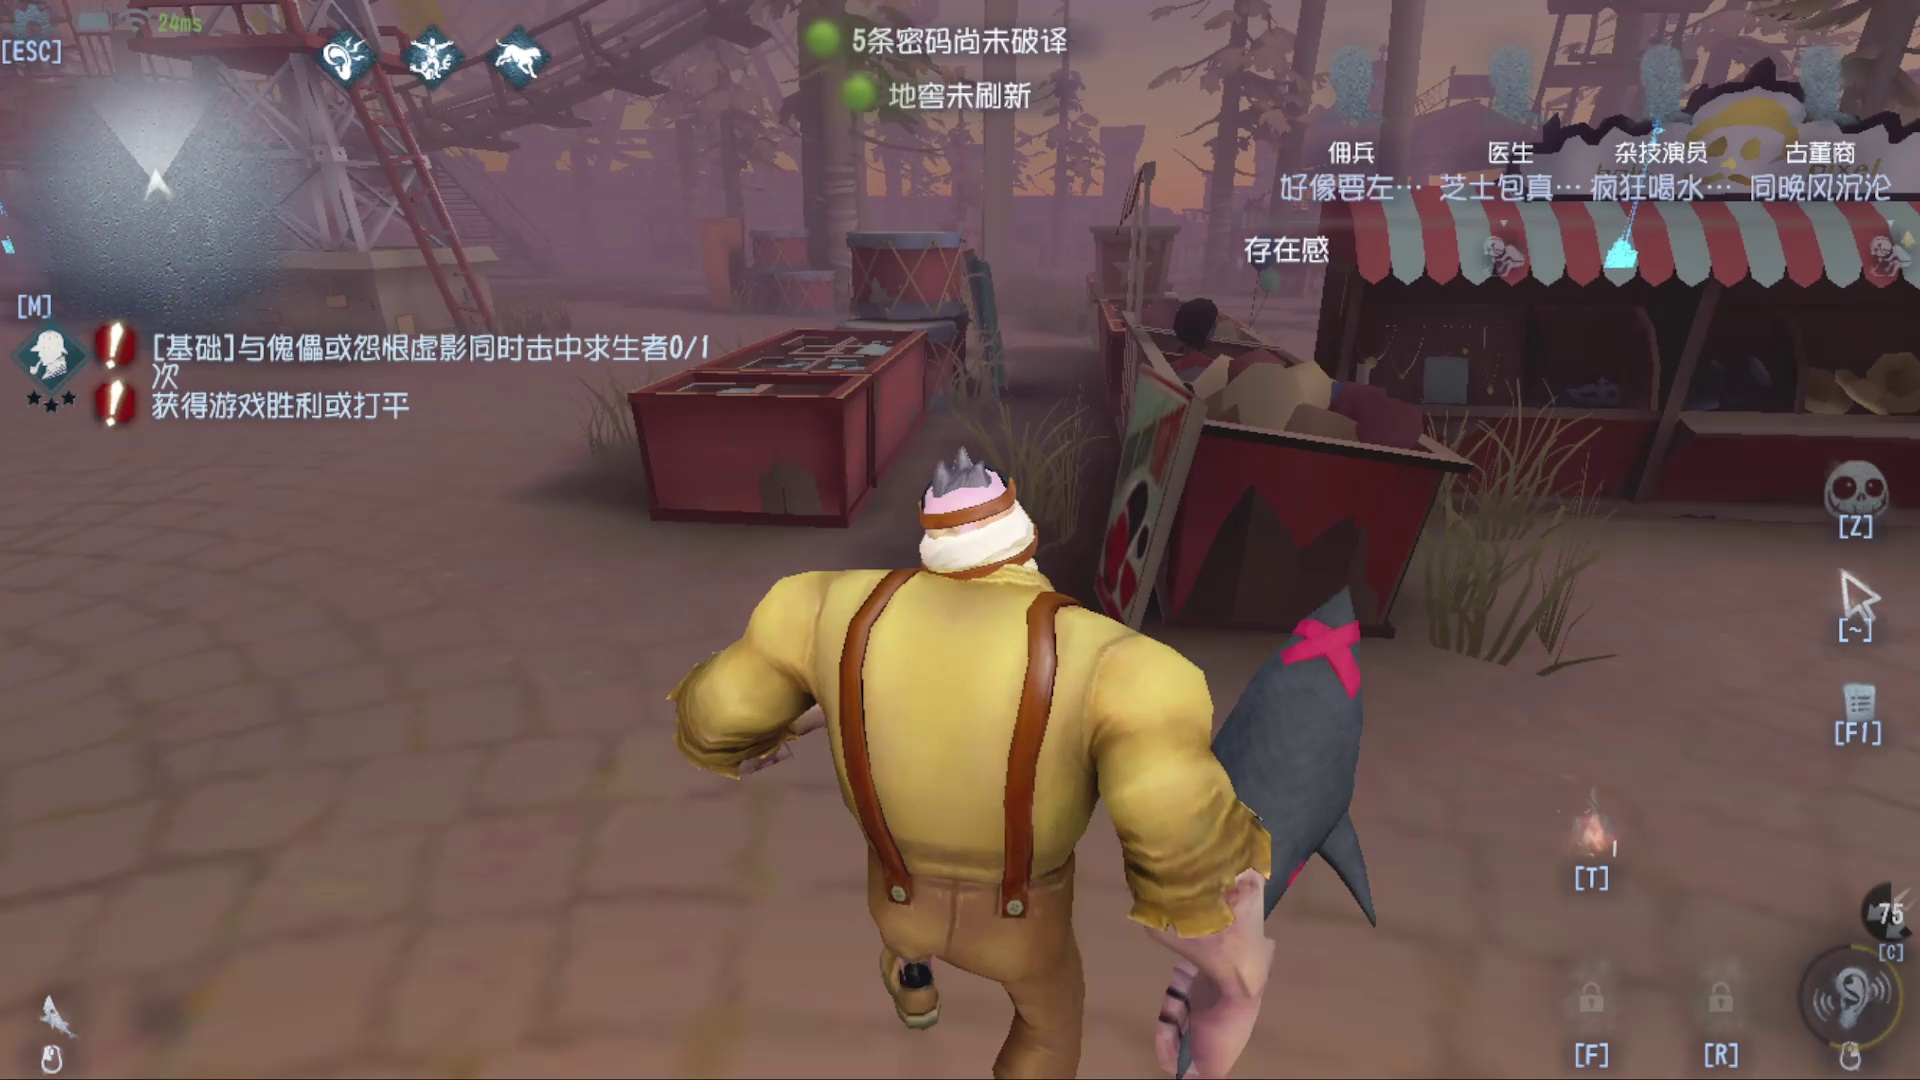密码机: (1593, 103, 1689, 285)
木板: (944, 235, 1036, 419)
